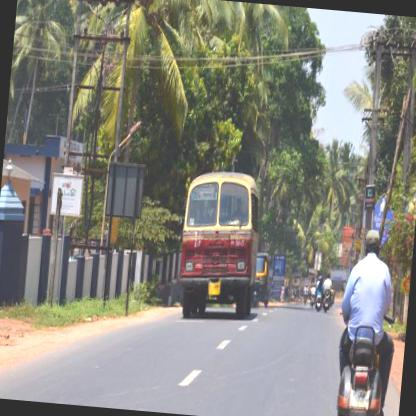bus: (253, 350, 314, 415)
